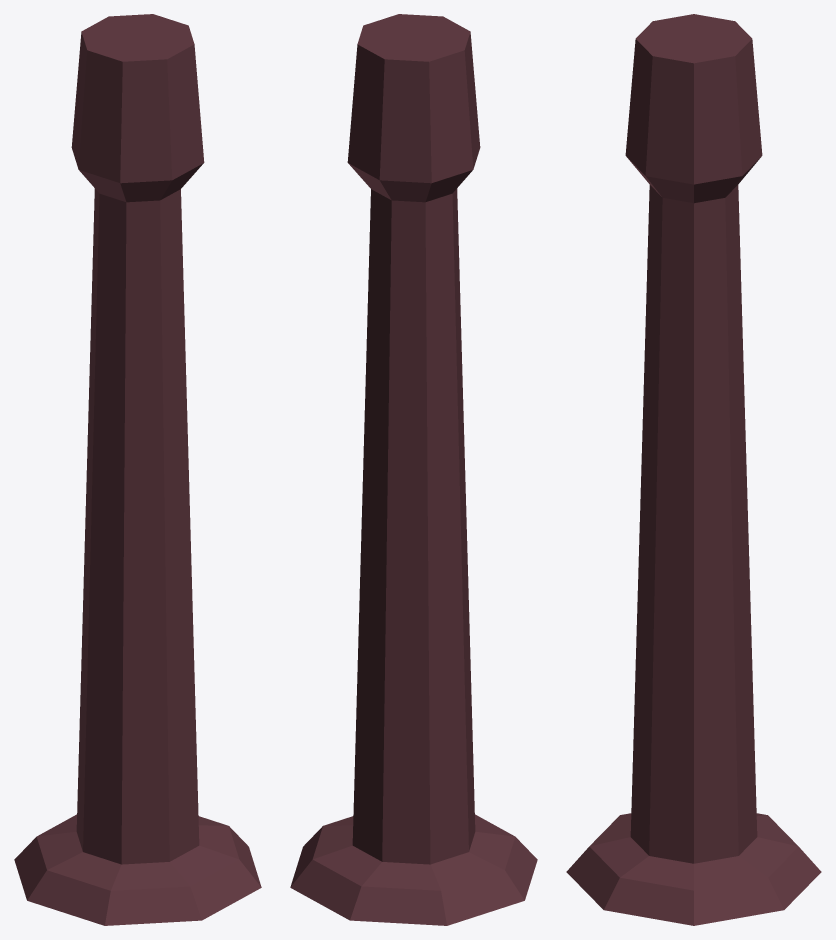
File: egypt-egypt-pillar-lotus-cluster.glb
3 renders of one model, left to right at view 1: azimuth 30°, elevation 25°; view 2: azimuth 150°, elevation 25°; view 3: azimuth 270°, elevation 25°, orthographic.
Visible parts, largest first — view 1: pilar-lotus-cluster; view 2: pilar-lotus-cluster; view 3: pilar-lotus-cluster.
Part boxes in pixels (x1,y1,x2,y2): pilar-lotus-cluster: (14,14,261,925); pilar-lotus-cluster: (290,14,537,925); pilar-lotus-cluster: (566,14,821,925).
Bounding box in the file's own units: 2.5 × 9 × 2.5.
